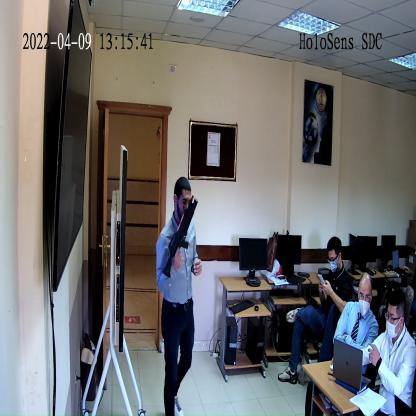handgun: (162, 200, 198, 280)
